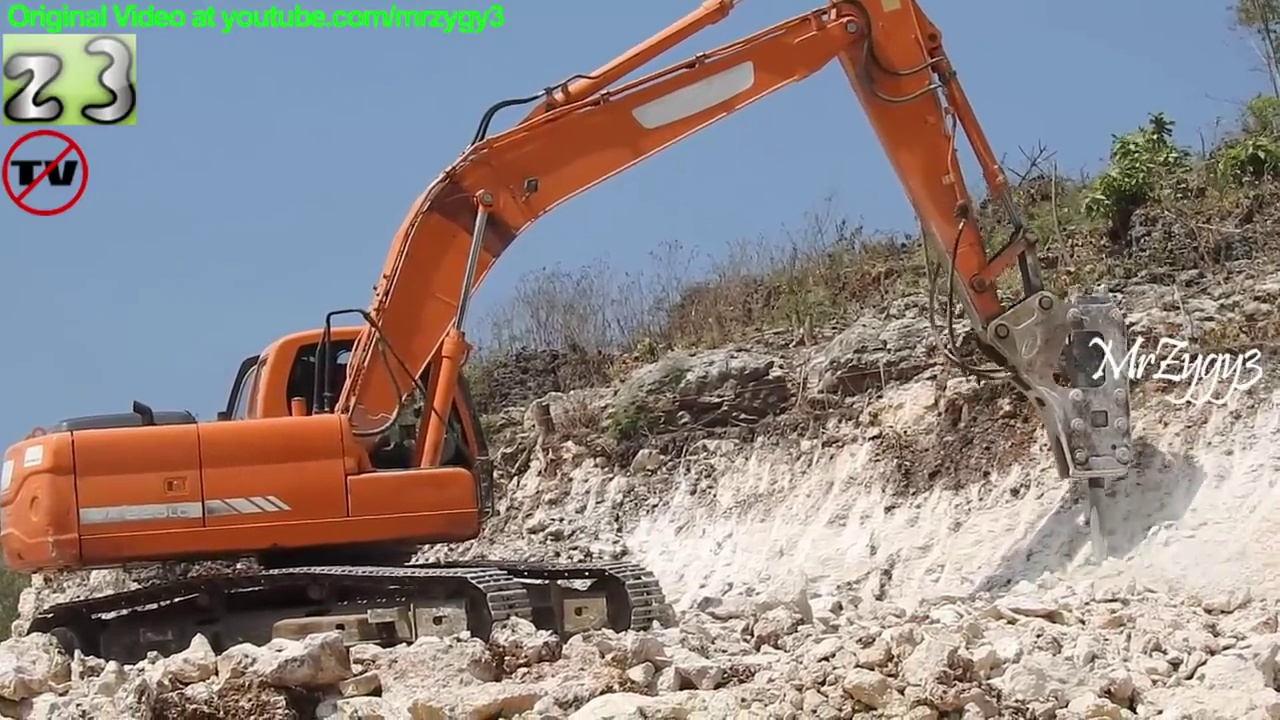excavator breaker: (1, 1, 1147, 703)
